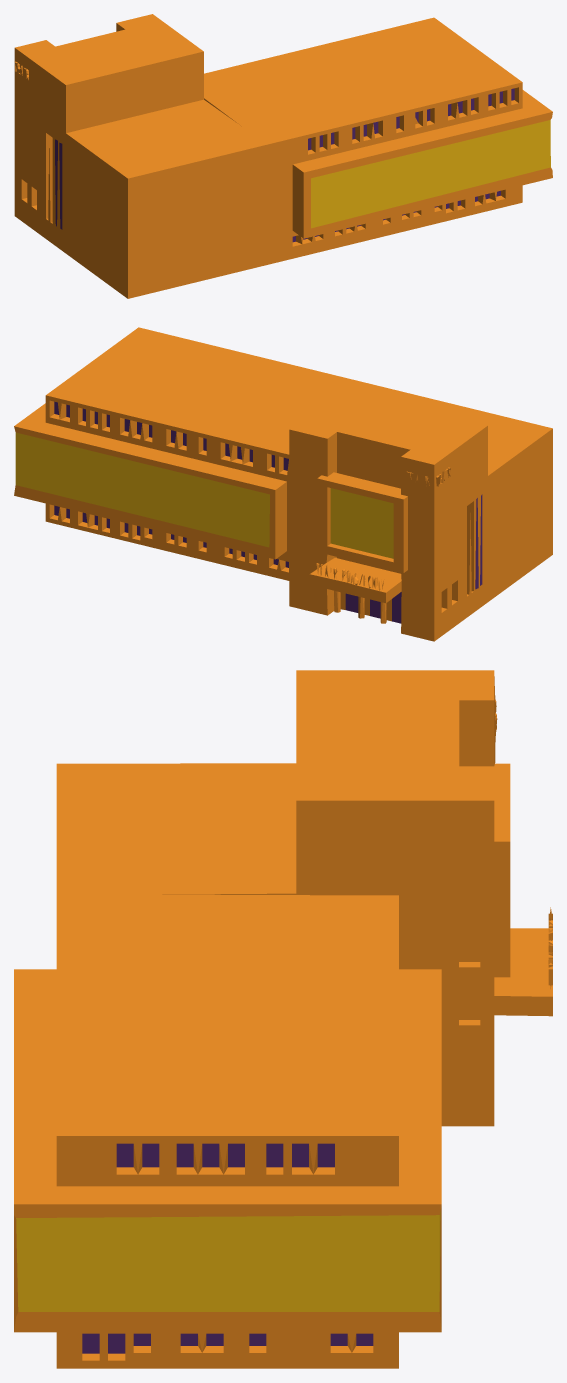
File: TeatrV2.fbx
3 renders of one model, top to bottom at view 1: azimuth 30°, elevation 25°; view 2: azimuth 150°, elevation 25°; view 3: azimuth 270°, elevation 25°, orthographic. The views are drawn at different scales.
Visible parts, largest first — view 1: Teatr_obj_0; view 2: Teatr_obj_0; view 3: Teatr_obj_0.
Part boxes in pixels (<box>): Teatr_obj_0: <box>14,14,552,298</box>; Teatr_obj_0: <box>14,327,552,641</box>; Teatr_obj_0: <box>14,670,552,1368</box>.
Size of the model in its own units: 38.99 by 15.09 by 22.64.
1 material, 1 textured.
